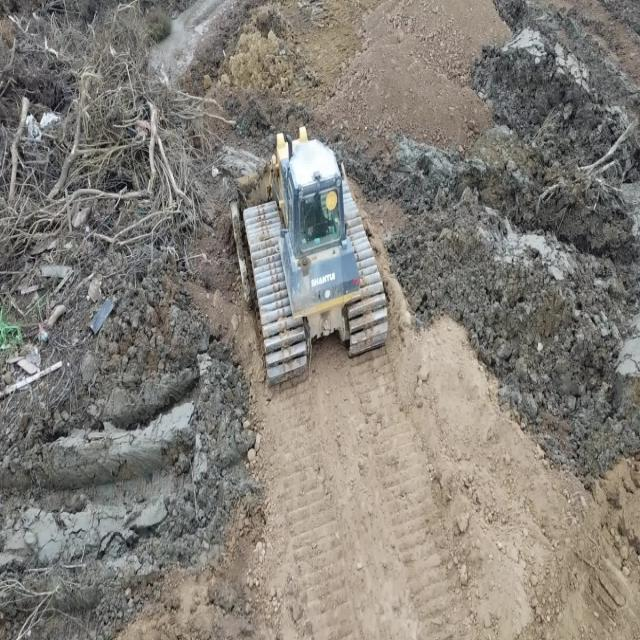machinery: (223, 126, 388, 385)
